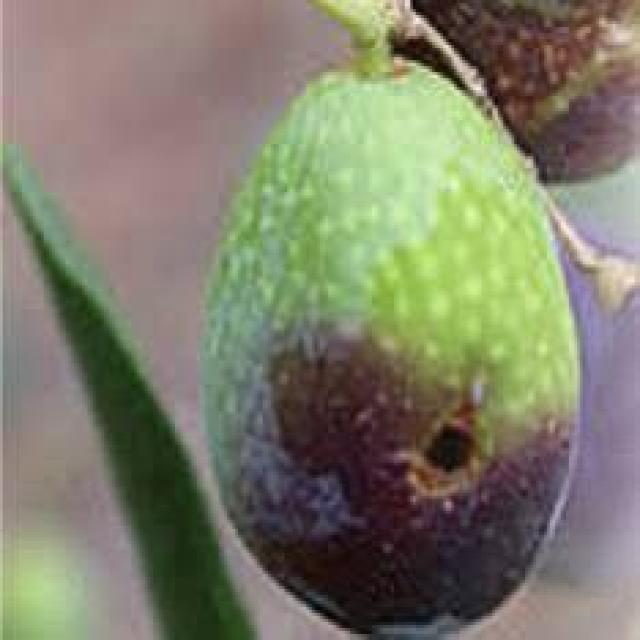Olive Fruit Fly: (208, 0, 574, 631)
